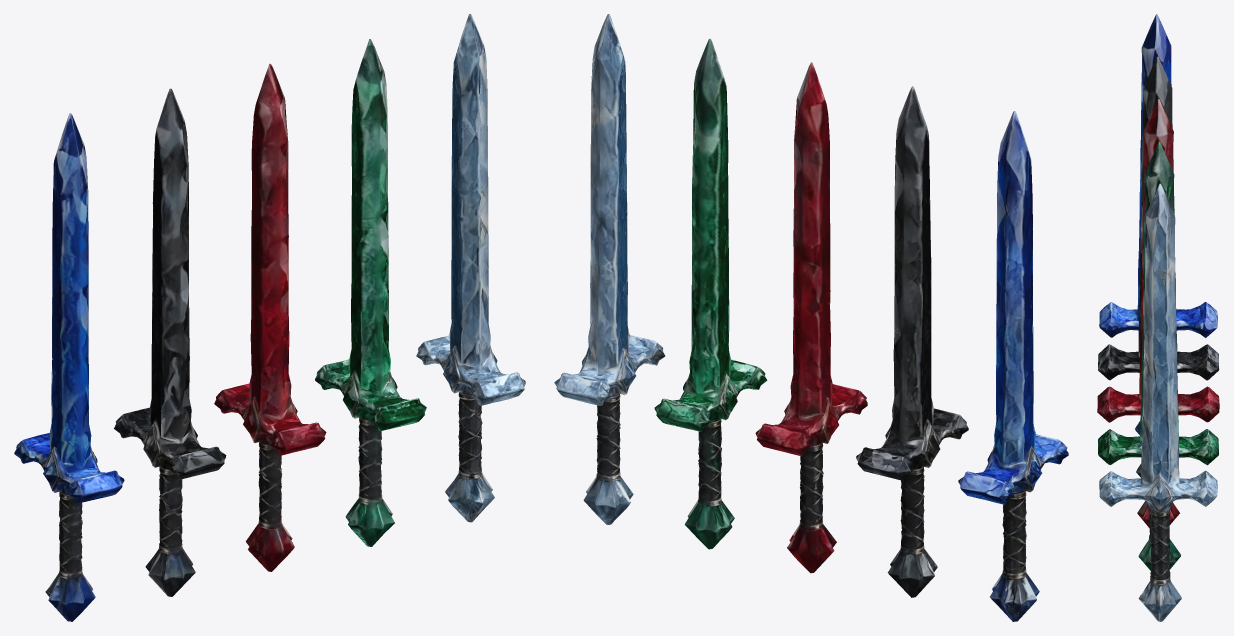
File: weapons_swords_tiers_b.glb
3 renders of one model, left to right at view 1: azimuth 30°, elevation 25°; view 2: azimuth 150°, elevation 25°; view 3: azimuth 270°, elevation 25°, orthographic. The views are drawn at different scales.
Visible parts, largest first — view 1: sword_tier_diamond_red, sword_tier_diamond_green, sword_tier_diamond_black, sword_tier_diamond_ice, sword_tier_diamond_blue; view 2: sword_tier_diamond_black, sword_tier_diamond_green, sword_tier_diamond_red, sword_tier_diamond_ice, sword_tier_diamond_blue; view 3: sword_tier_diamond_ice, sword_tier_diamond_green, sword_tier_diamond_red, sword_tier_diamond_black, sword_tier_diamond_blue.
Boxes of the visible parts, x1,y1,x2,y2 form: sword_tier_diamond_red: (214, 63, 326, 571); sword_tier_diamond_green: (315, 39, 426, 546); sword_tier_diamond_black: (114, 88, 226, 596); sword_tier_diamond_ice: (416, 14, 525, 522); sword_tier_diamond_blue: (14, 113, 124, 621); sword_tier_diamond_black: (856, 86, 968, 597); sword_tier_diamond_green: (654, 39, 767, 549); sword_tier_diamond_red: (755, 62, 867, 573); sword_tier_diamond_ice: (554, 14, 665, 524); sword_tier_diamond_blue: (958, 111, 1068, 621); sword_tier_diamond_ice: (1099, 183, 1217, 621); sword_tier_diamond_green: (1098, 141, 1218, 570); sword_tier_diamond_red: (1097, 99, 1219, 527); sword_tier_diamond_black: (1098, 56, 1219, 477); sword_tier_diamond_blue: (1099, 14, 1217, 435).
Bounding box in the file's own units: 0.6165 × 0.6533 × 0.1653.
1 material, 1 textured.
